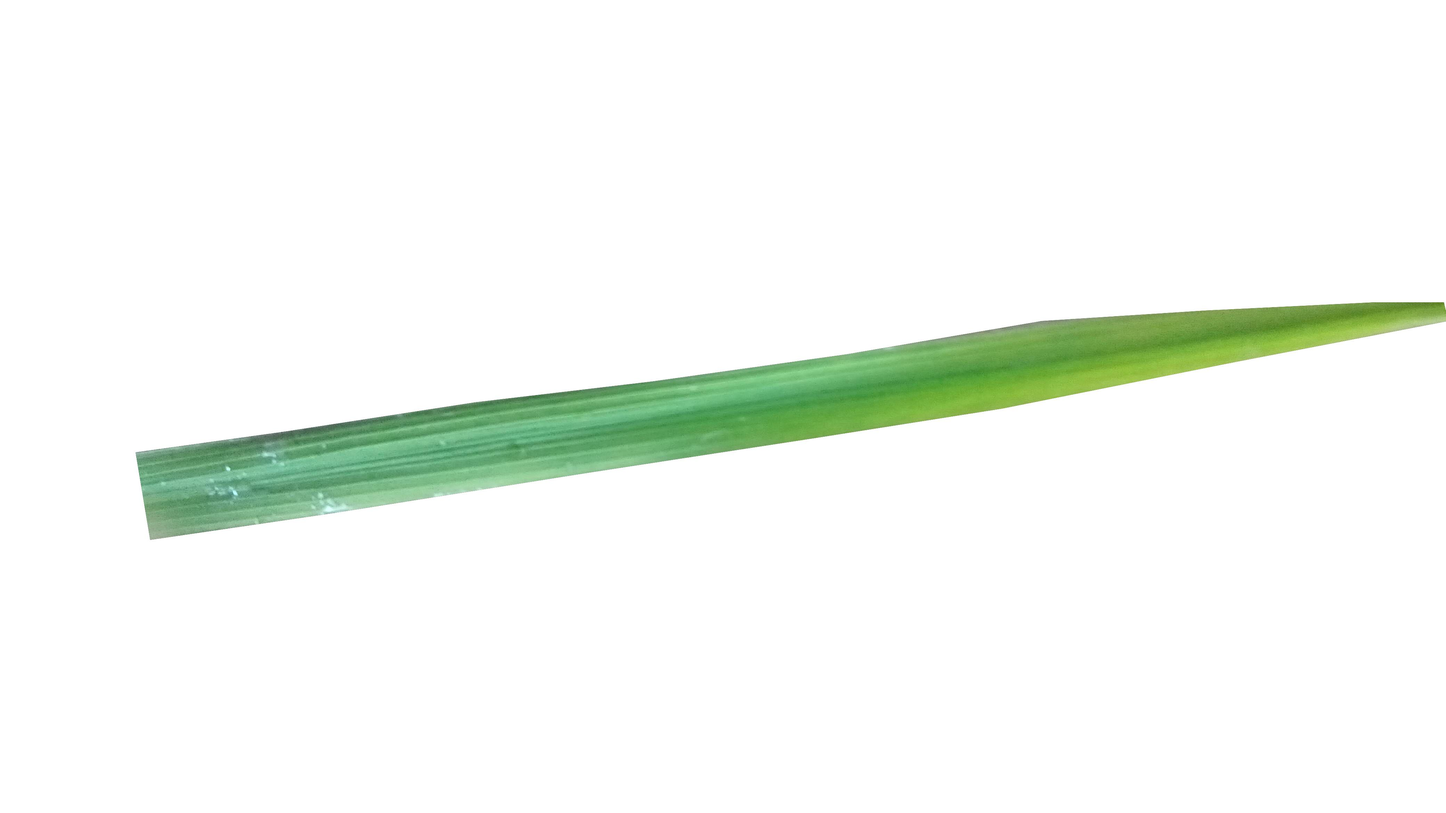Tungro: (757, 304, 1443, 442)
